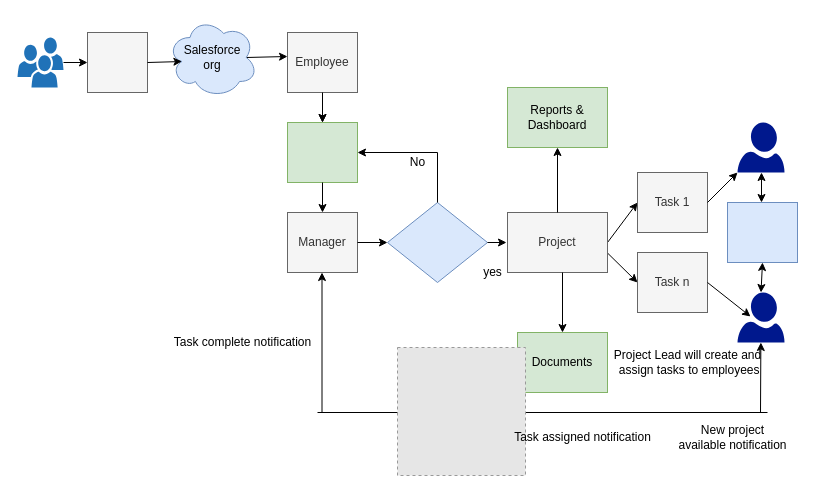
This 815x493 diagram has some shape labels left out. Grey dashed boxes stand in for pictures. The shapes that lost their labels are listed below. From the top down, each one's centre as x and y in pixels, then its label:
At (x=117, y=62): "login".
At (x=322, y=152): "Project Idea".
At (x=437, y=242): "Idea approved".
At (x=762, y=232): "Chatter".
